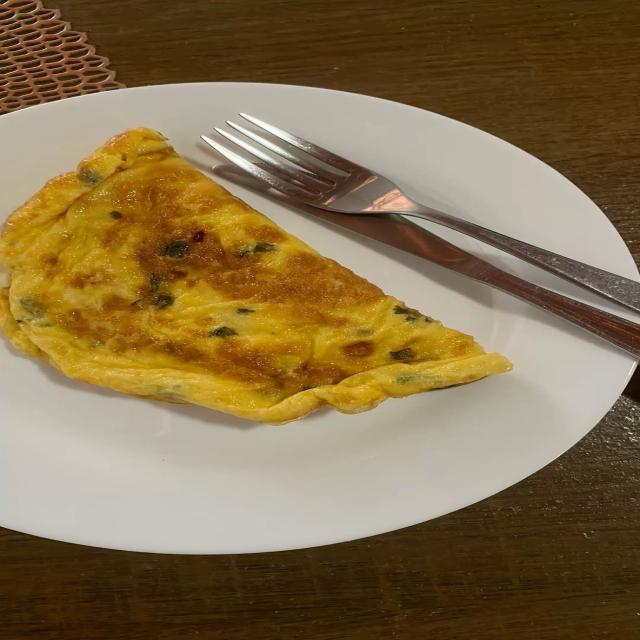omelette: (0, 129, 510, 423)
